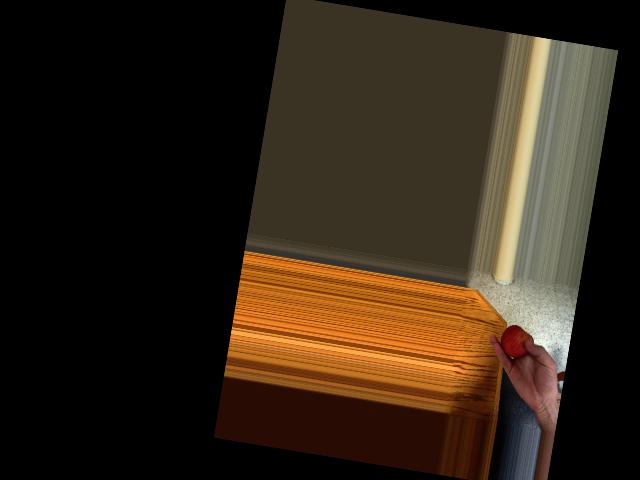apple: (497, 320, 537, 365)
